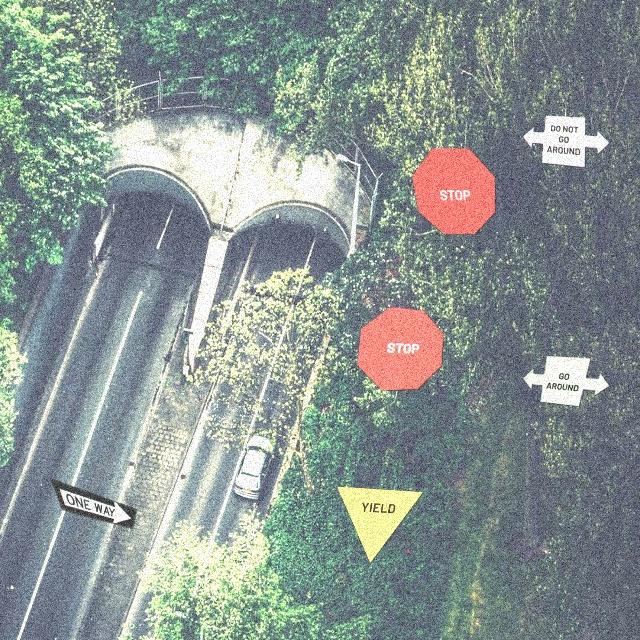DO_NOT_GO_AROUND: (522, 115, 610, 168)
GO_AROUND: (522, 355, 610, 407)
ONE_WAY_ right: (49, 477, 137, 529)
STOP: (411, 147, 496, 235), (356, 306, 444, 391)
YIELD: (336, 486, 424, 564)
